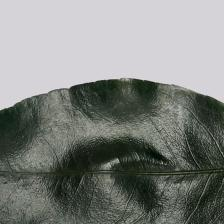healthy: (9, 72, 208, 218)
